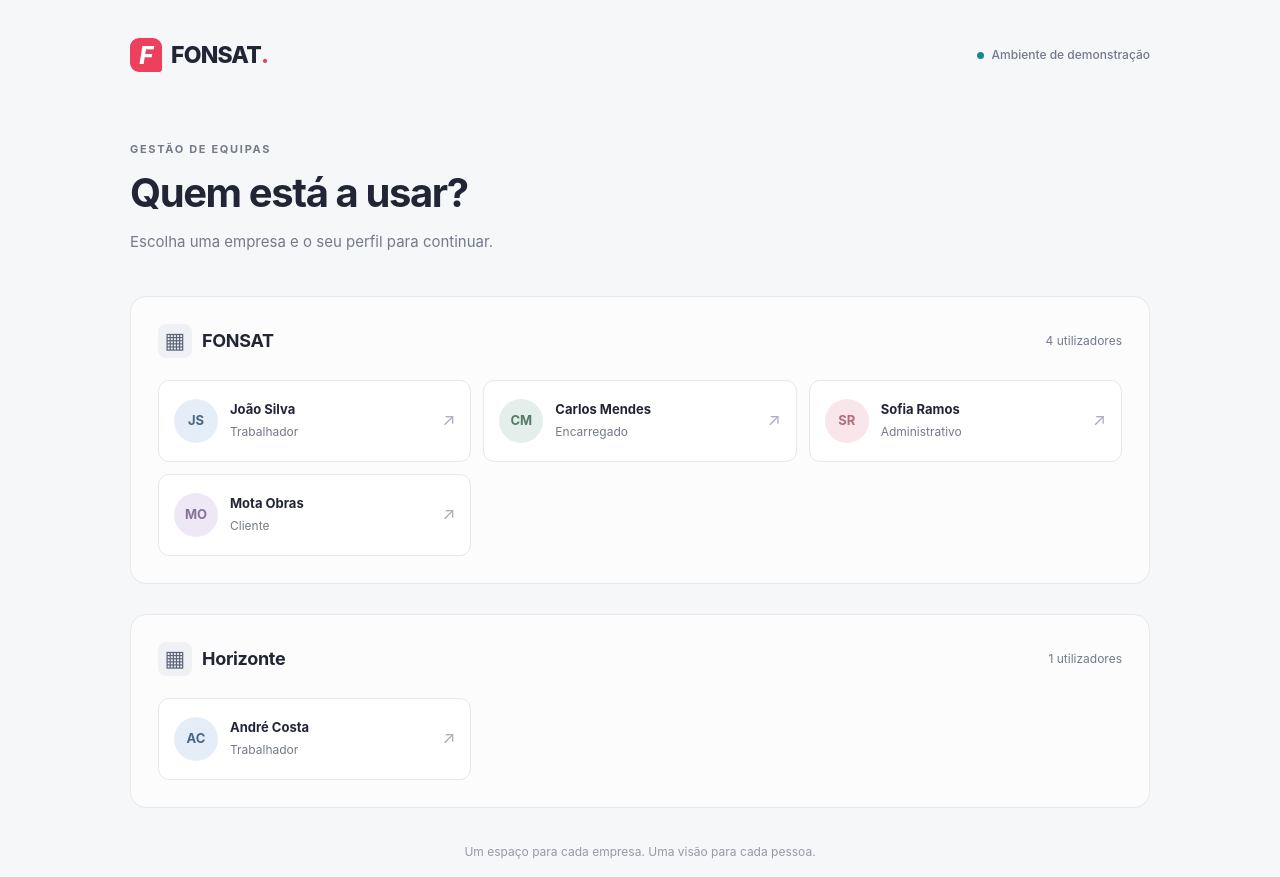
Scenario: seleciona João Silva e abre o ambiente O meu dia
Click the button "JS João Silva Trabalhador ↗": (196, 420) [158,380,471,462]
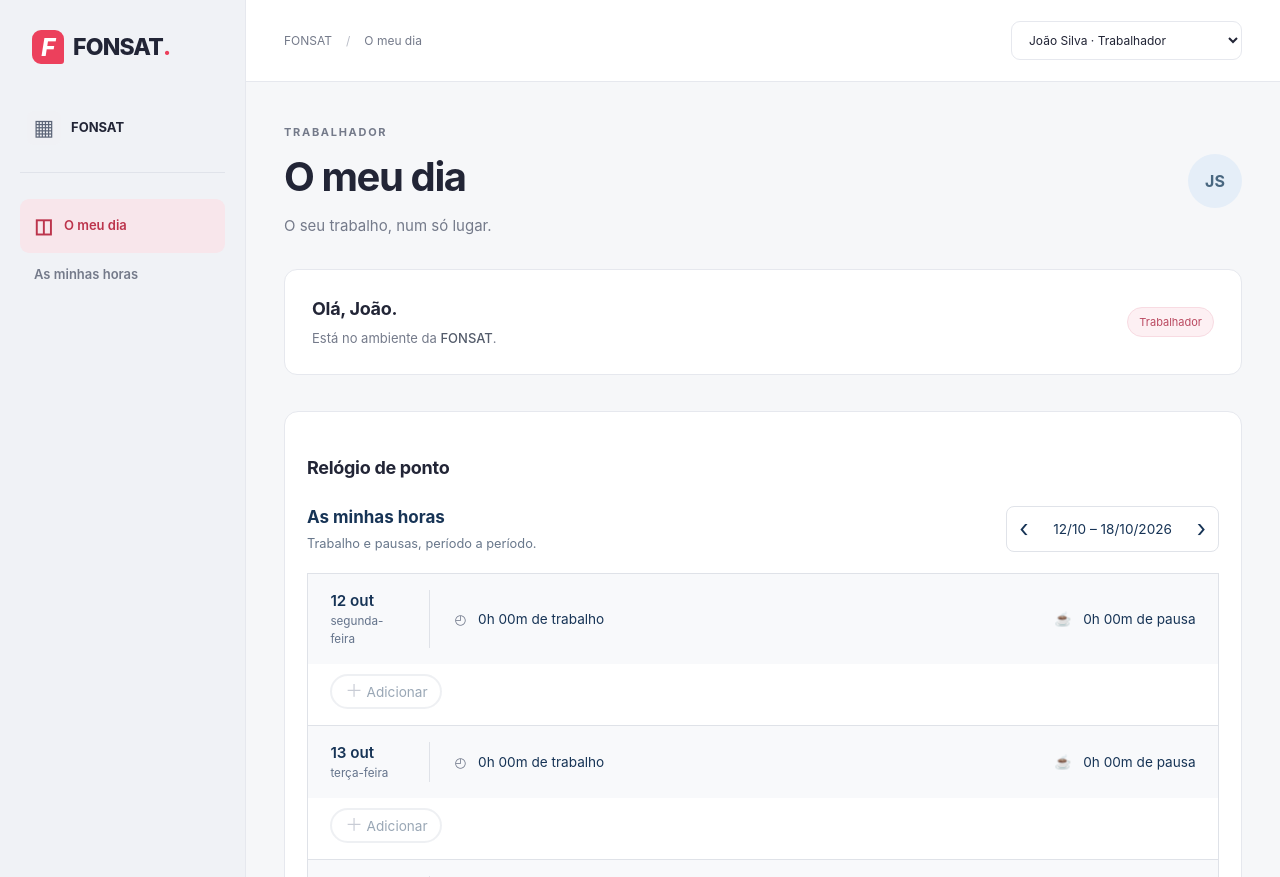
Check: the heading "O meu dia" is shown, box [284,154,492,200]
